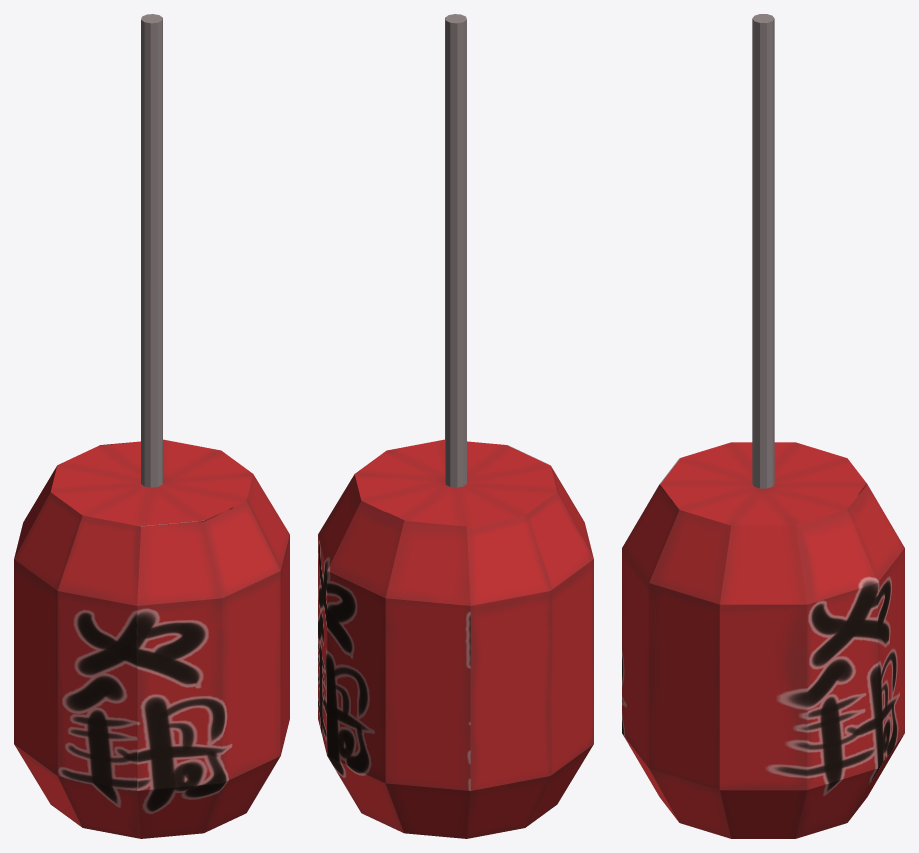
The model's file is Lantern.fbx.
3 renders of one model, left to right at view 1: azimuth 30°, elevation 25°; view 2: azimuth 150°, elevation 25°; view 3: azimuth 270°, elevation 25°, orthographic.
Parts seen in each view (by area): view 1: Lamp; view 2: Lamp; view 3: Lamp.
Boxes of the visible parts, bbox=[...] form: Lamp: bbox=[14, 14, 289, 838]; Lamp: bbox=[318, 14, 593, 838]; Lamp: bbox=[622, 14, 904, 838].
Bounding box in the file's own units: 73.01 × 233 × 76.76.
